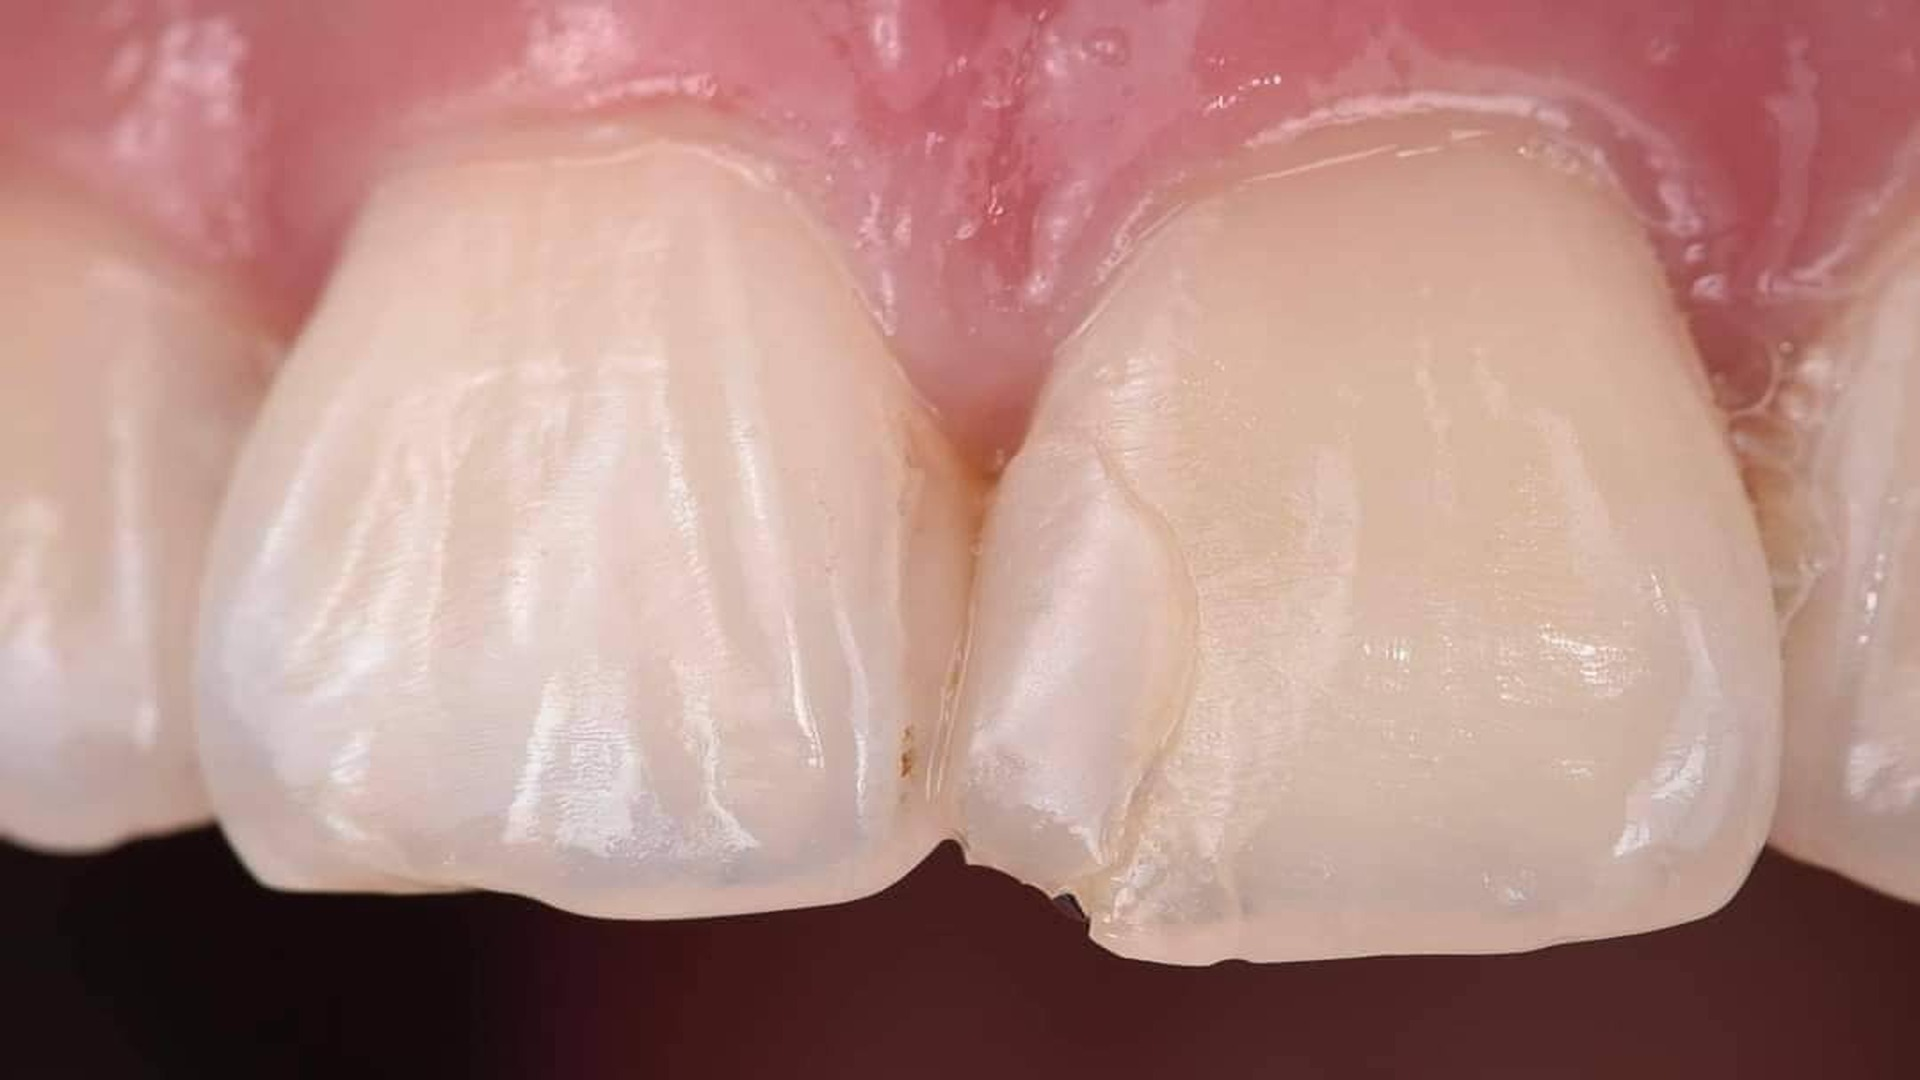tooth: (963, 102, 1785, 968), (193, 116, 980, 923)
